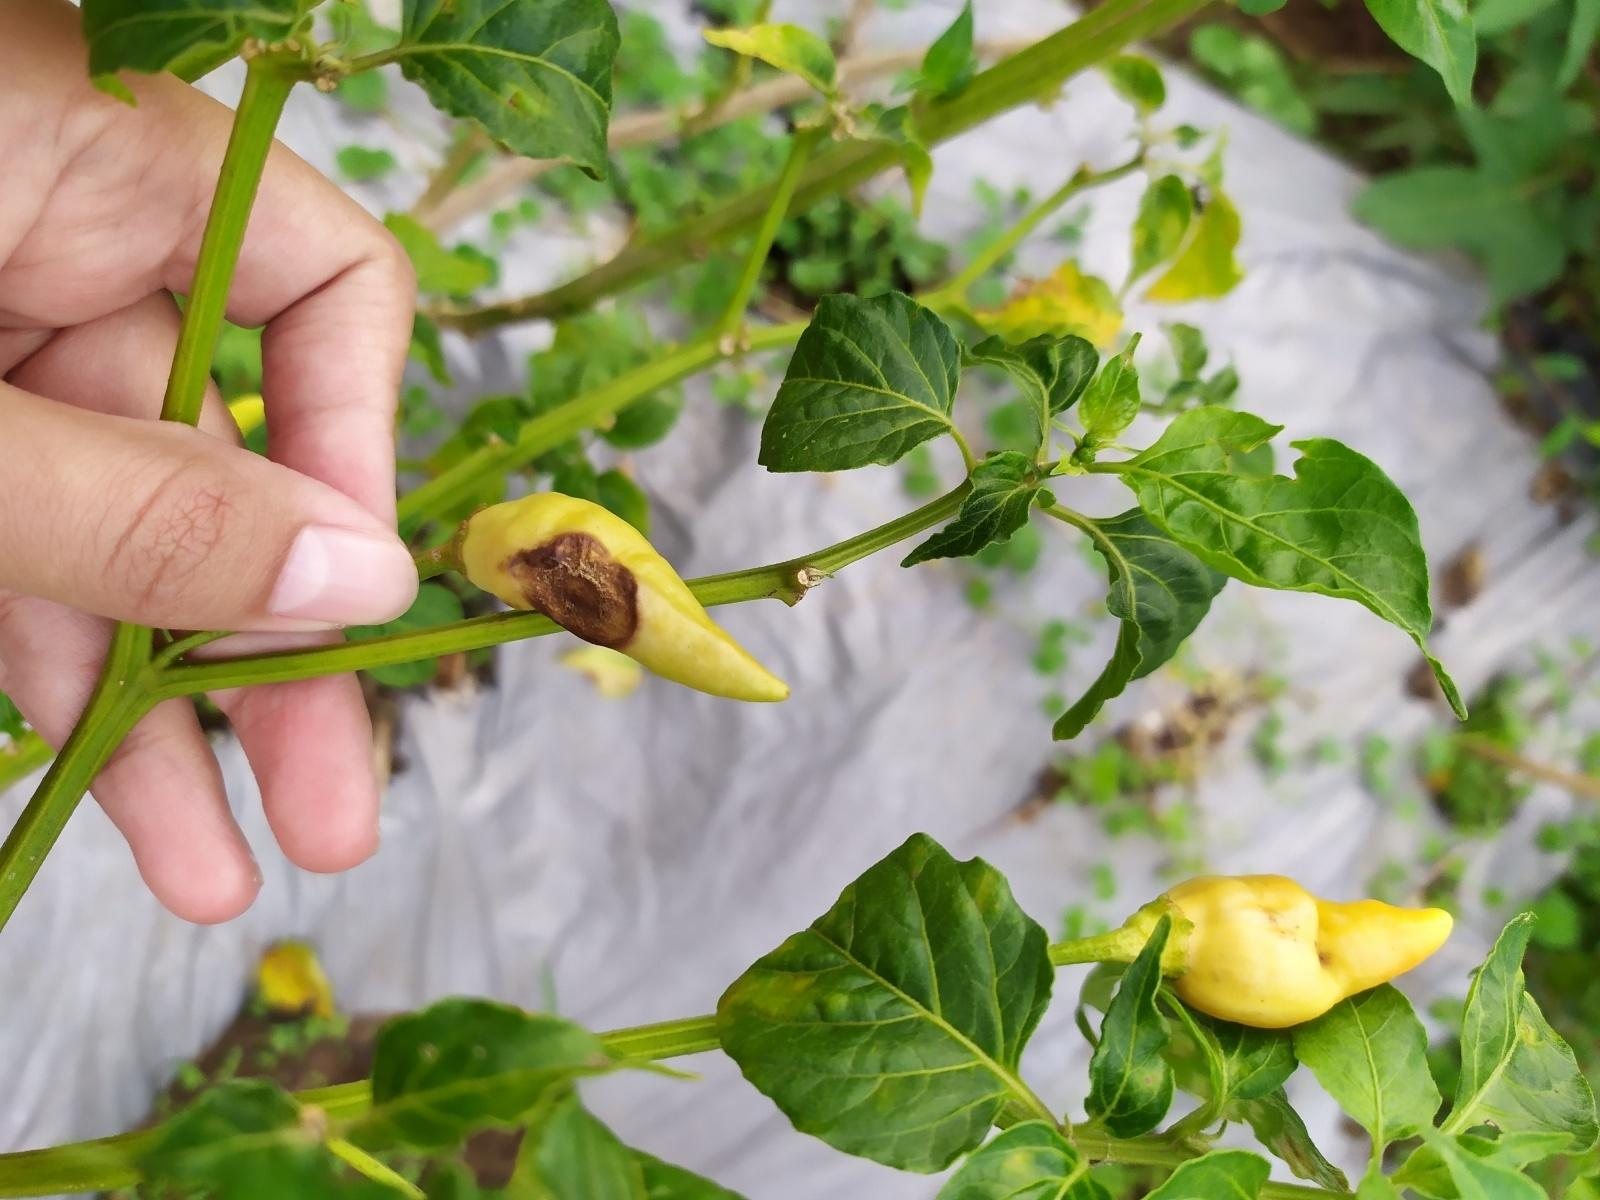antraknosa: (455, 493, 790, 703)
cabai_normal: (1134, 875, 1455, 1031)
